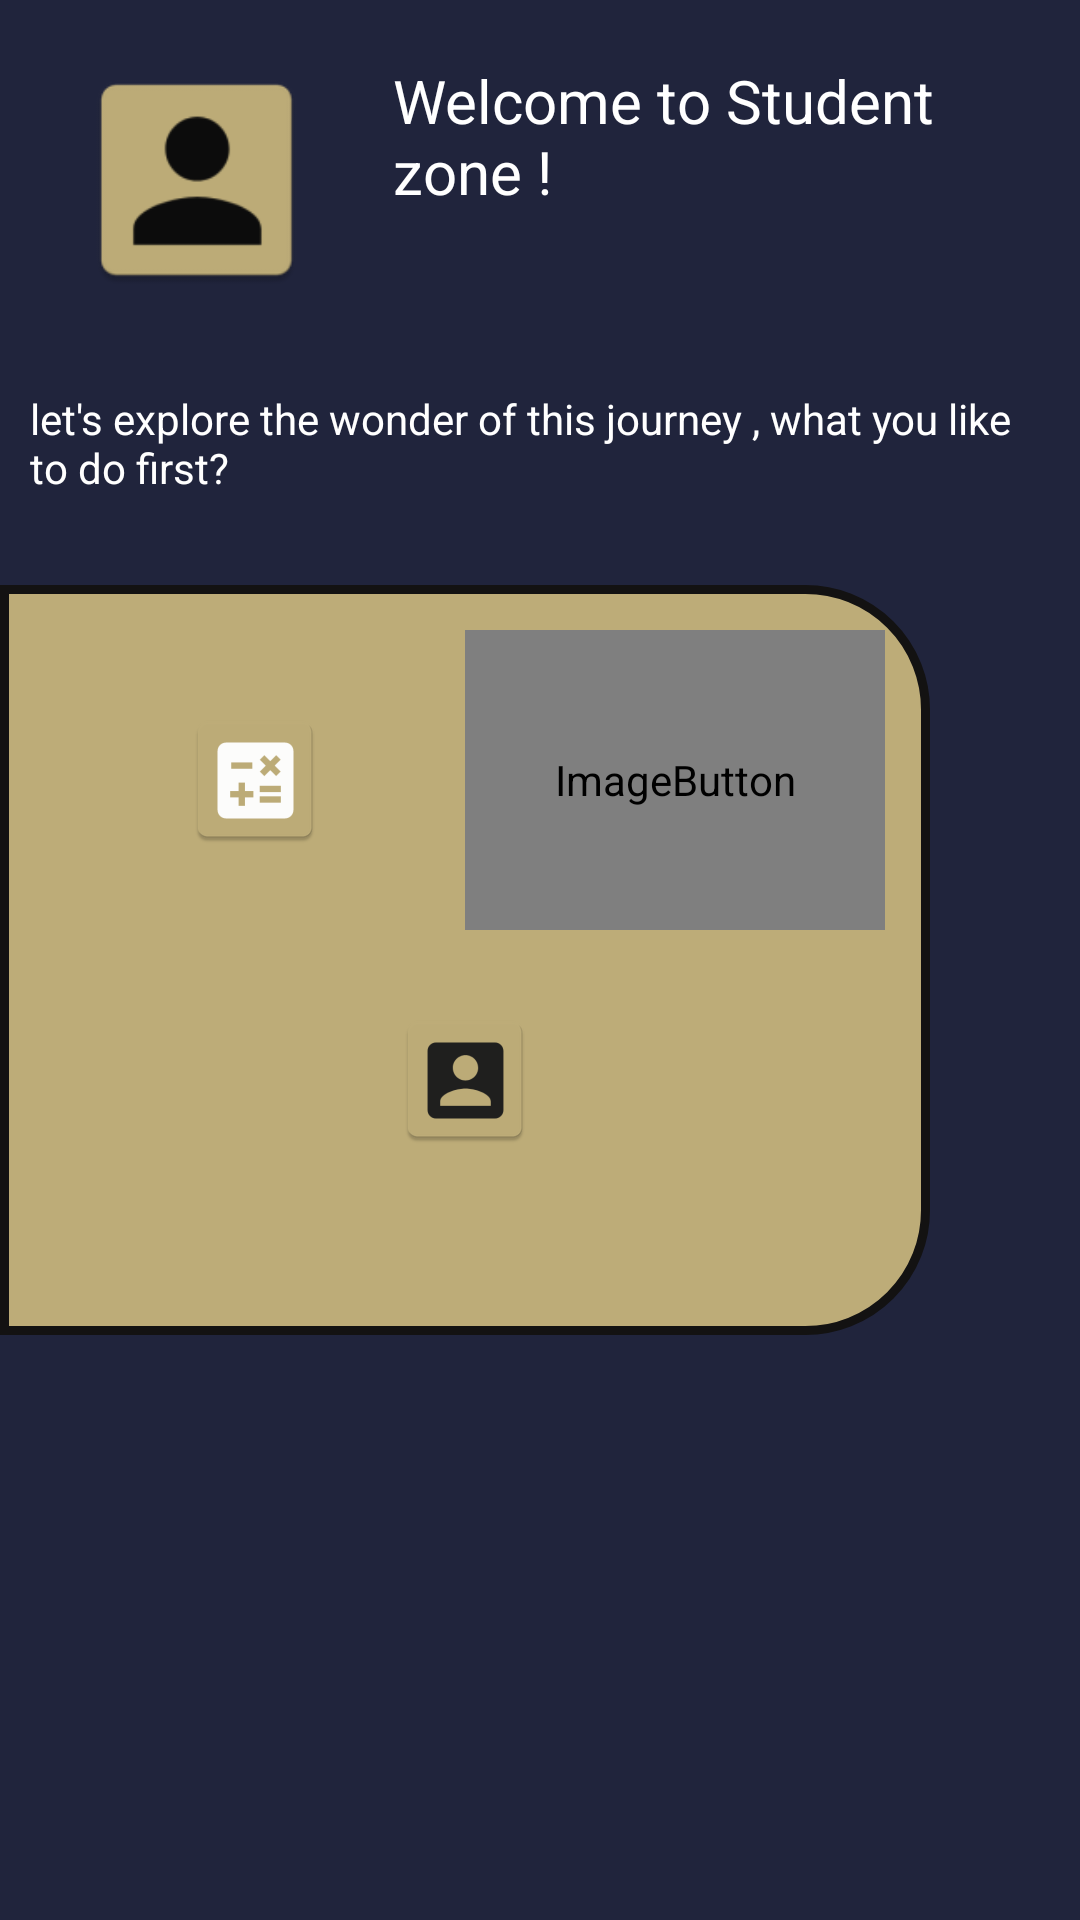

Where to tap for icons on this 1080px x 1920px app screen, as (x=x, y=y):
calculate: (x=255, y=791)
